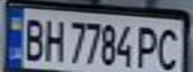4: (115, 20, 136, 69)
7: (81, 18, 103, 65), (66, 17, 87, 64)
8: (100, 20, 118, 68)
B: (18, 14, 48, 62)
C: (154, 24, 184, 72)
H: (39, 15, 66, 63)
P: (136, 22, 163, 70)
